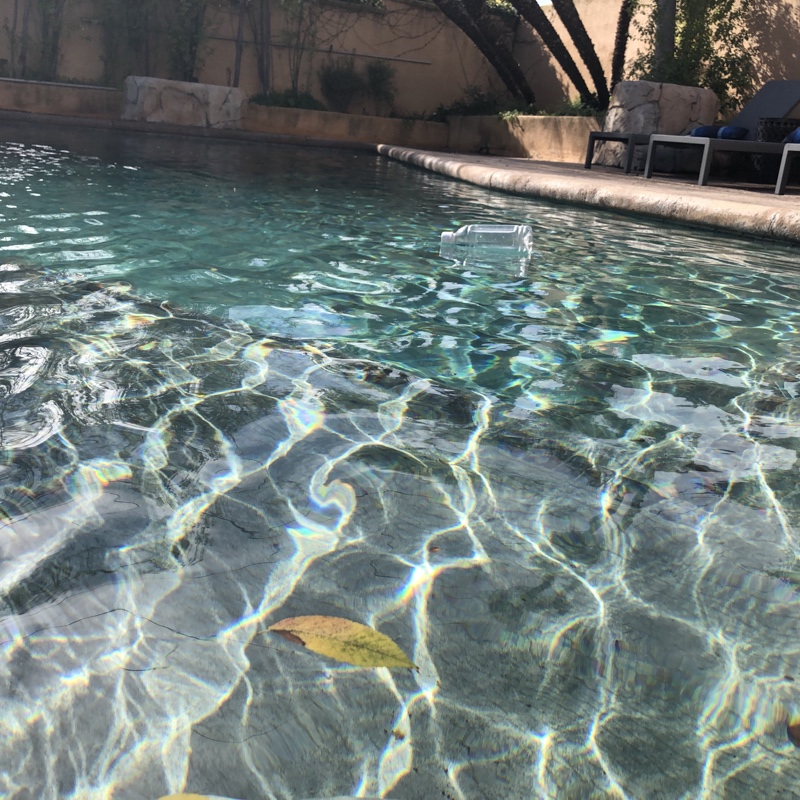Plastic Bottle: (434, 218, 534, 260)
